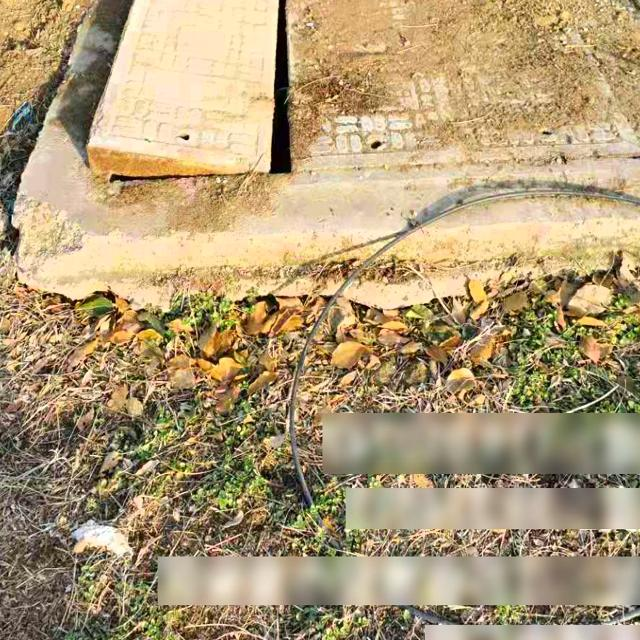uncovered: (86, 0, 640, 190)
